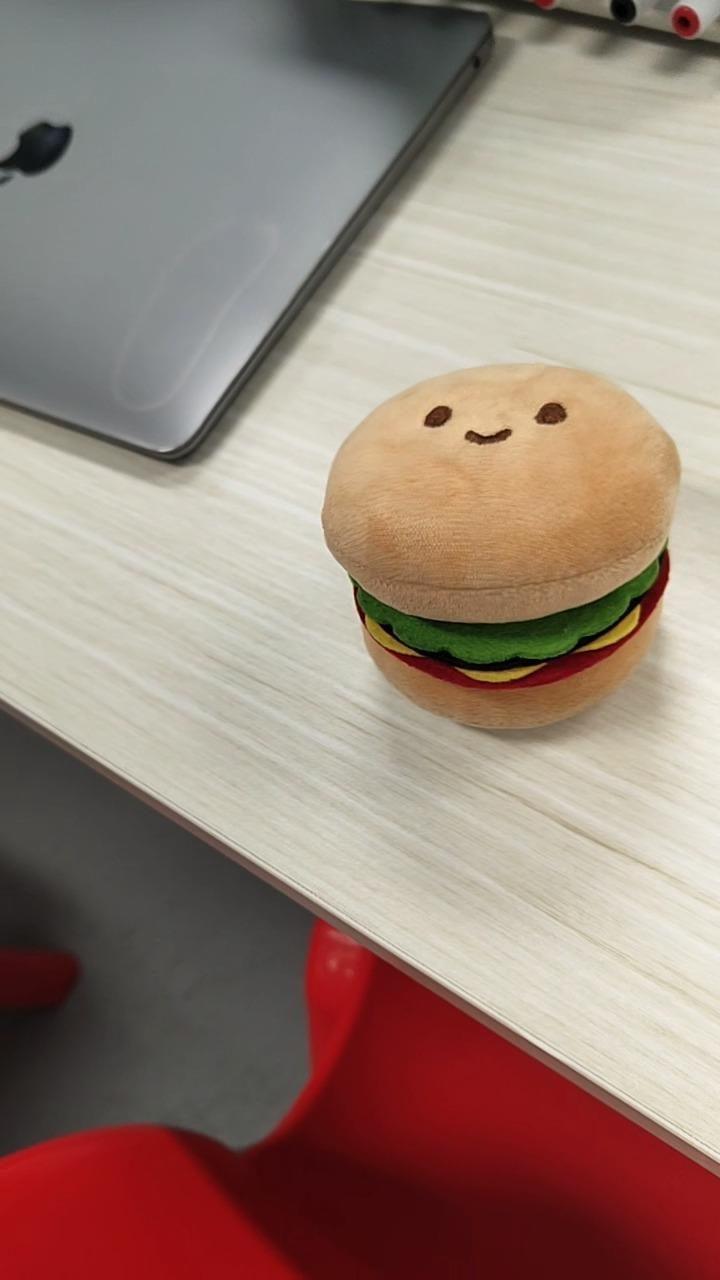hamburger: (319, 360, 682, 732)
